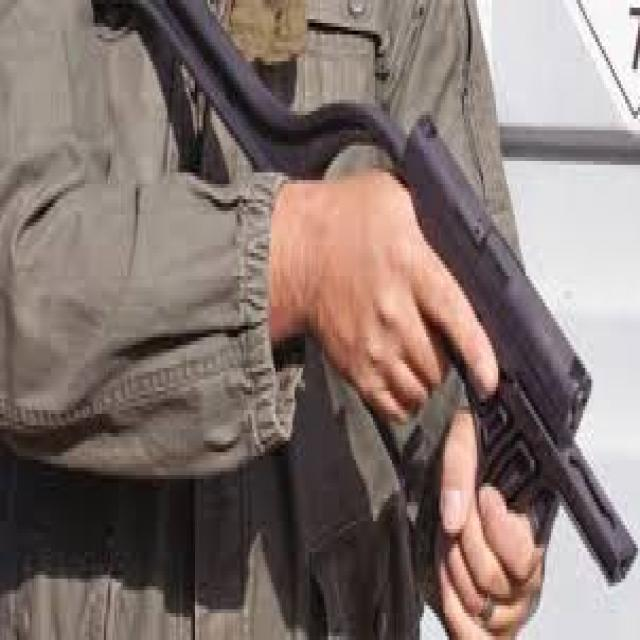Gun: (379, 97, 631, 584)
